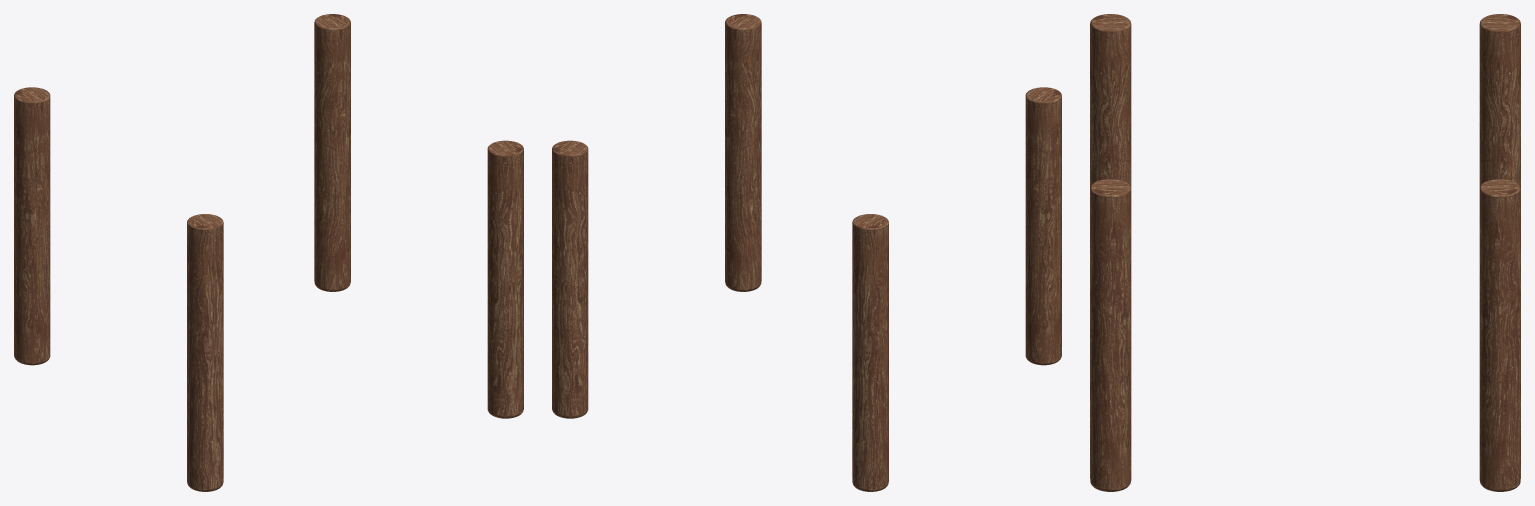
The model's file is TableLegs_Cricle_Cedar.obj.
The picture shows the model from 3 angles, left to right: view 1: azimuth 30°, elevation 25°; view 2: azimuth 150°, elevation 25°; view 3: azimuth 270°, elevation 25°; orthographic projection. The views are drawn at different scales.
Size of the model in its own units: 841 by 641 by 840.
